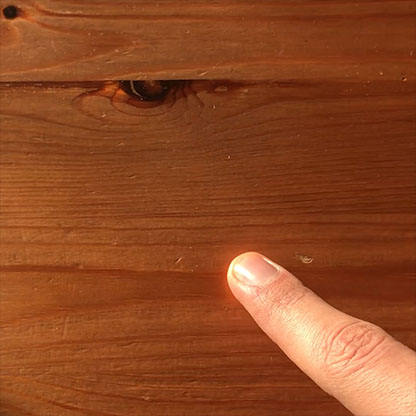fingertip: (211, 239, 291, 308)
